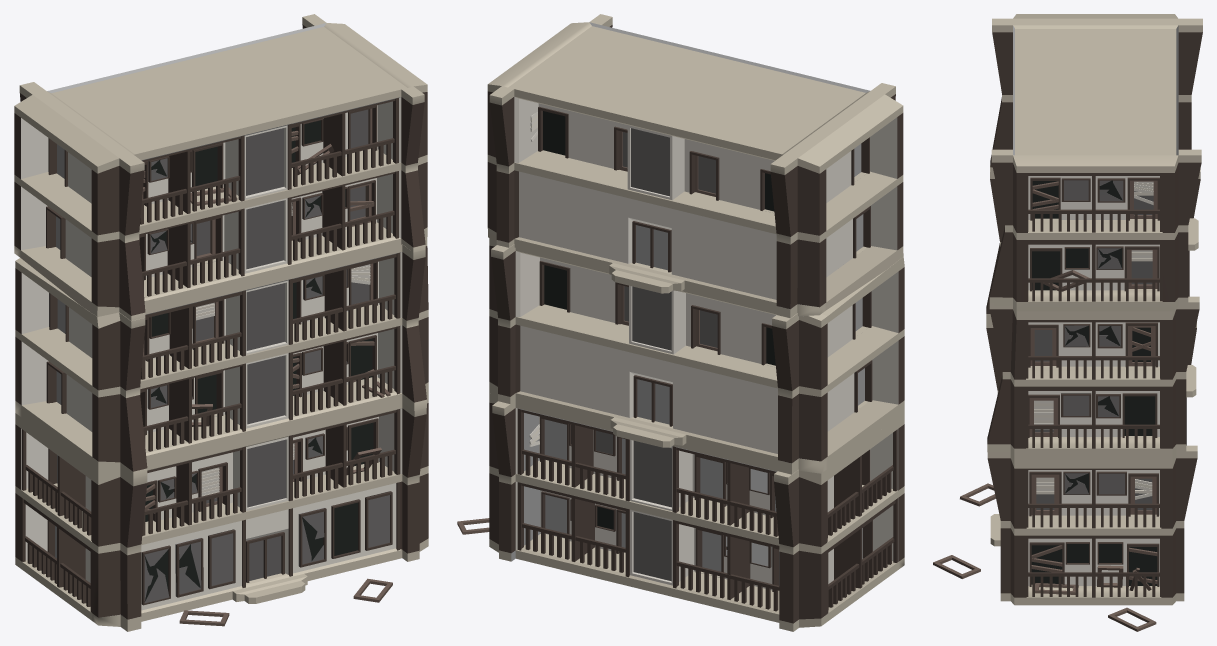
File: ApartmentsUNITY.fbx
3 views of the same model, side by side, from view 1: azimuth 30°, elevation 25°; view 2: azimuth 150°, elevation 25°; view 3: azimuth 270°, elevation 25° (orthographic). The views are drawn at different scales.
Parts seen in each view (by area): view 1: group1_pasted__pCube262; view 2: group1_pasted__pCube262; view 3: group1_pasted__pCube262.
Boxes of the visible parts, x1=… form: group1_pasted__pCube262: x1=14, y1=14, x2=428, y2=631; group1_pasted__pCube262: x1=457, y1=14, x2=904, y2=631; group1_pasted__pCube262: x1=933, y1=14, x2=1202, y2=631.
Bounding box in the file's own units: 26.26 × 30.83 × 16.92.
